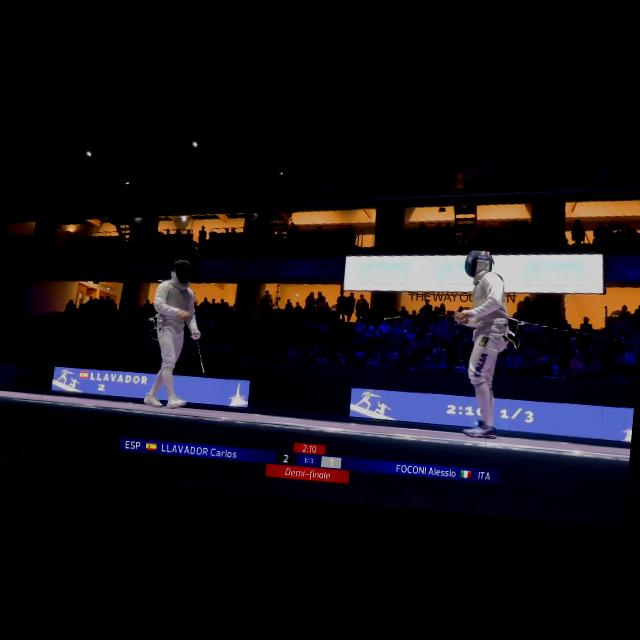blade: (378, 300, 462, 333), (186, 330, 213, 378)
